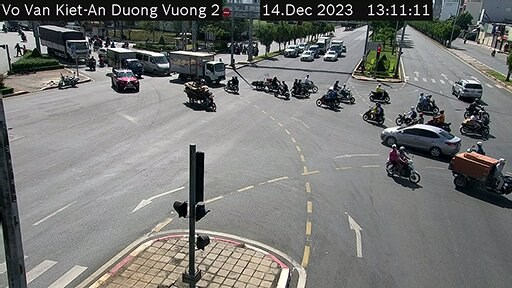car: (381, 118, 462, 158), (109, 68, 150, 104), (138, 45, 169, 72), (454, 77, 487, 99), (301, 51, 320, 64), (323, 51, 335, 64), (286, 45, 298, 57)
motorbike: (383, 146, 419, 186), (320, 89, 349, 117), (413, 90, 439, 113), (464, 111, 490, 134), (335, 79, 357, 104), (364, 100, 382, 128), (428, 107, 451, 128), (467, 100, 493, 118), (370, 82, 391, 102), (400, 105, 421, 125), (302, 75, 321, 97), (274, 80, 290, 97), (330, 78, 342, 96), (224, 78, 239, 92)
truck: (170, 48, 234, 82), (43, 25, 90, 69), (103, 45, 141, 71)
